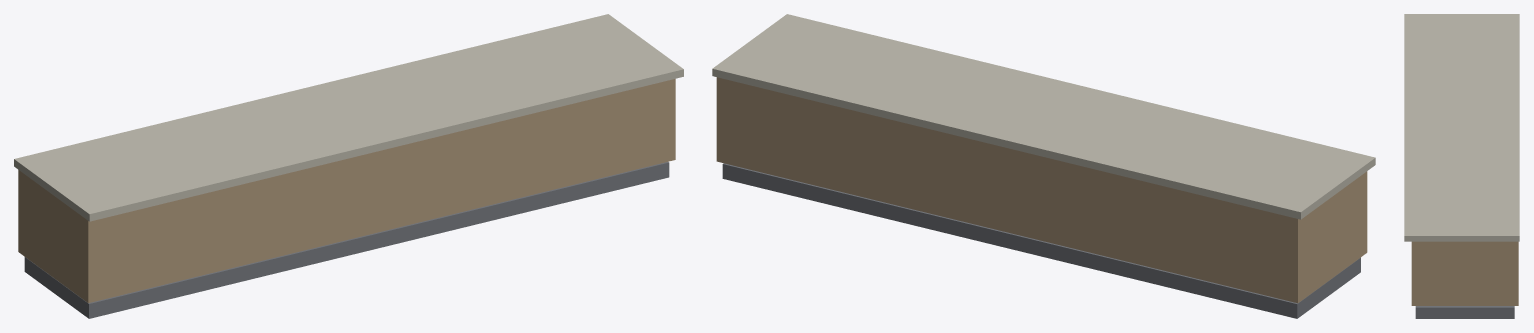
Rendered from mov_bc41249da9.gltf.
3 renders of one model, left to right at view 1: azimuth 30°, elevation 25°; view 2: azimuth 150°, elevation 25°; view 3: azimuth 270°, elevation 25°, orthographic. The views are drawn at different scales.
Parts seen in each view (by area): view 1: mov_bc41249da9; view 2: mov_bc41249da9; view 3: mov_bc41249da9.
Boxes of the visible parts, <box> form: mov_bc41249da9: <box>14,14,683,318</box>; mov_bc41249da9: <box>712,14,1375,318</box>; mov_bc41249da9: <box>1404,14,1519,318</box>.
Size of the model in its own units: 5 by 0.9 by 1.1.
